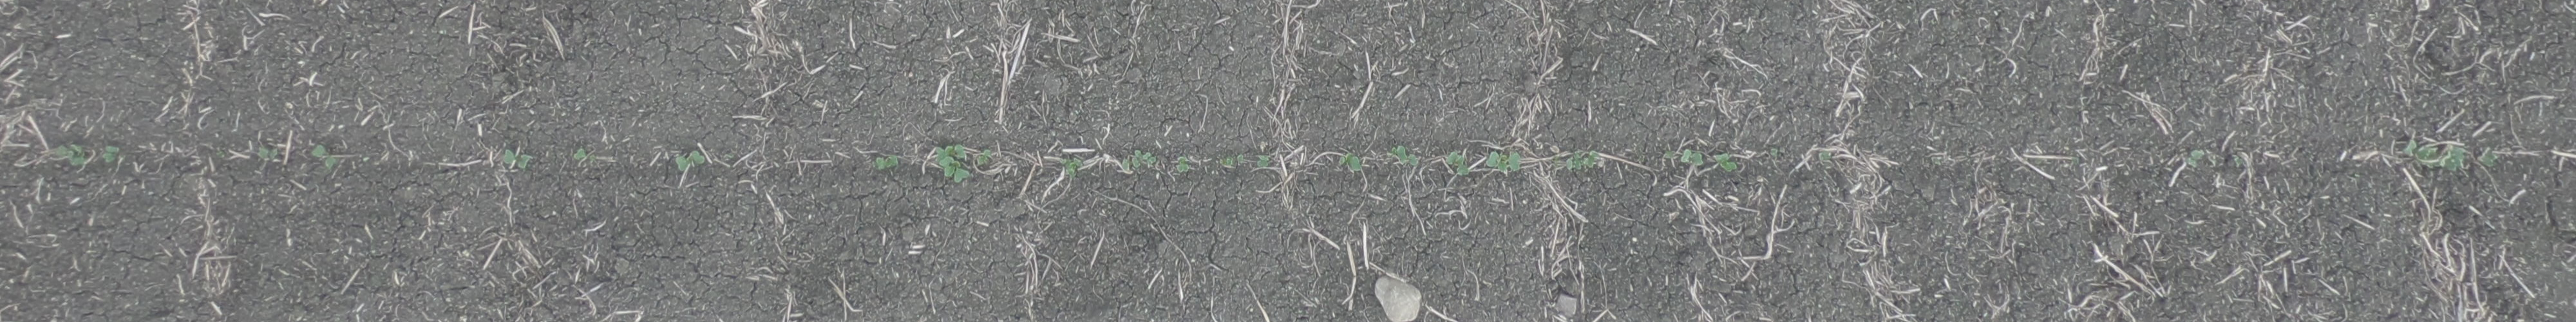plant: (936, 145, 969, 182), (2403, 140, 2438, 171), (1487, 151, 1520, 172), (56, 143, 87, 164), (2440, 146, 2466, 171), (1566, 151, 1600, 169), (1446, 151, 1470, 176), (1391, 146, 1419, 168), (503, 149, 531, 169), (312, 145, 335, 168), (675, 151, 703, 169), (1135, 149, 1157, 171), (1063, 154, 1083, 177), (1713, 153, 1737, 172), (2183, 149, 2205, 168), (1339, 154, 1362, 171), (1681, 149, 1704, 164), (876, 154, 897, 169), (256, 146, 279, 159), (2481, 151, 2497, 168), (102, 146, 120, 161), (573, 149, 596, 161), (1226, 154, 1244, 168), (977, 149, 992, 164), (1176, 158, 1189, 172), (1257, 154, 1270, 168), (1819, 151, 1830, 163)
